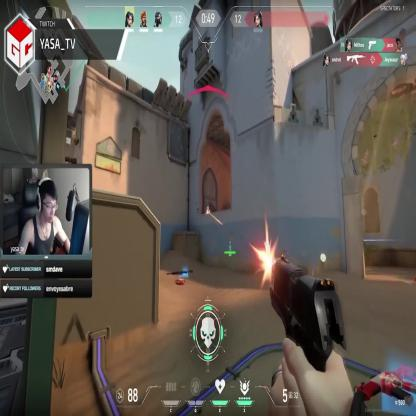enemy: (206, 207, 211, 228)
enemy_head: (207, 207, 210, 211)
